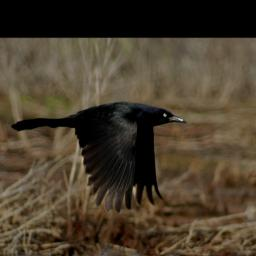Crow: (11, 100, 189, 213)
